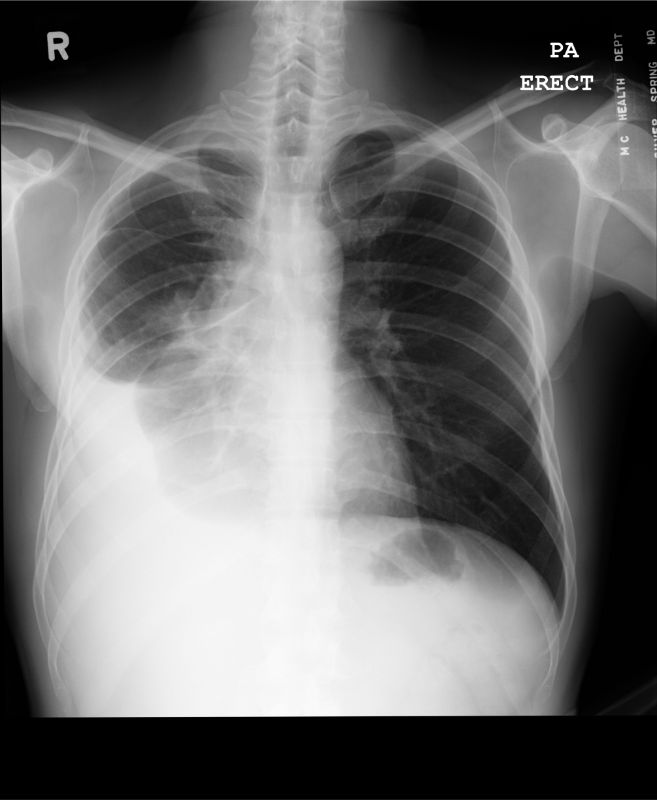Pleural Effusion: (31, 361, 179, 576)
